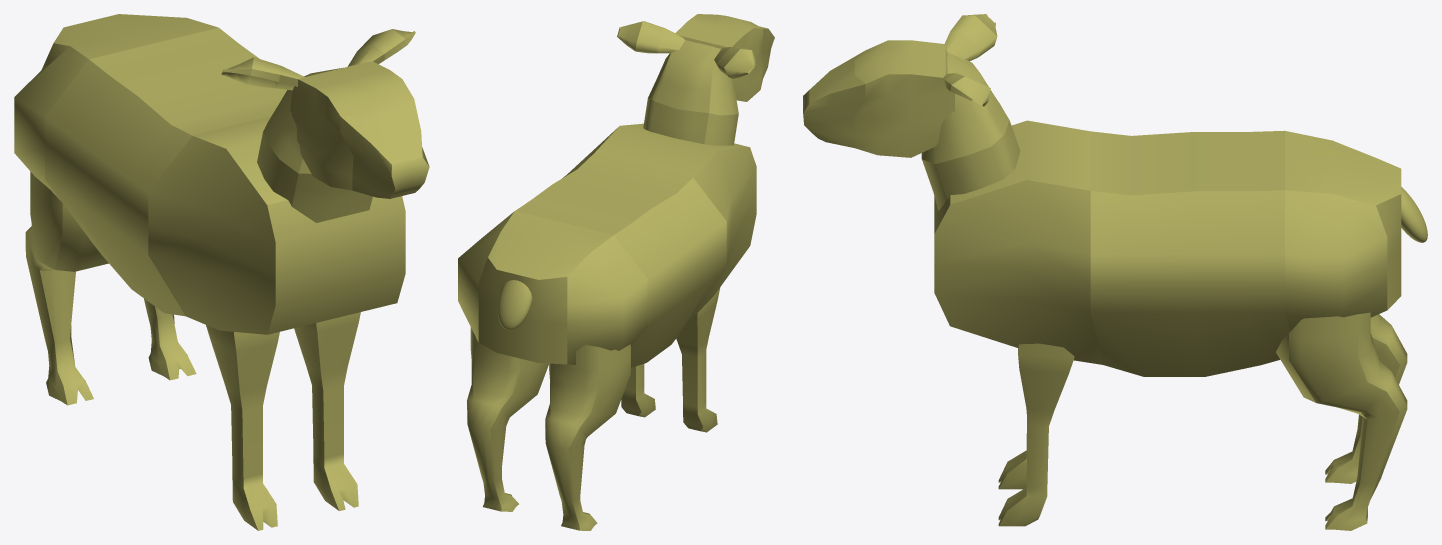
Rendered from sheep.fbx.
The picture shows the model from 3 angles, left to right: view 1: azimuth 30°, elevation 25°; view 2: azimuth 150°, elevation 25°; view 3: azimuth 270°, elevation 25°; orthographic projection. The views are drawn at different scales.
Parts seen in each view (by area): view 1: Body1; view 2: Body1; view 3: Body1.
Boxes of the visible parts, box(x1,y1,x2,y2) form: Body1: box(14, 14, 429, 530); Body1: box(458, 14, 774, 530); Body1: box(803, 14, 1427, 530).
Bounding box in the file's own units: 4.79 × 10.24 × 12.68.
